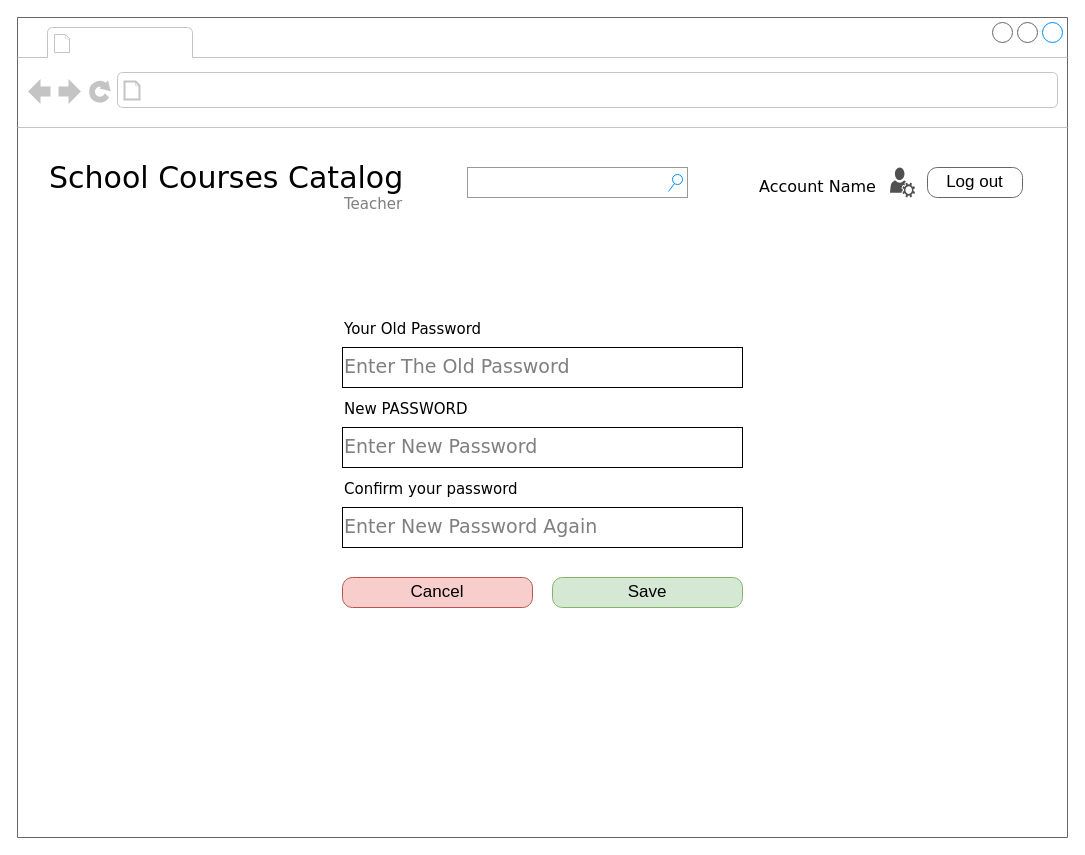
The diagram is 1085 pixels wide and 855 high, and some of its shapes have lost their labels. Each missing label, with the box of its shape:
https://www.default.com: (146, 76, 398, 104)
Page 1: (76, 28, 188, 56)
Search the course: (466, 166, 688, 198)
